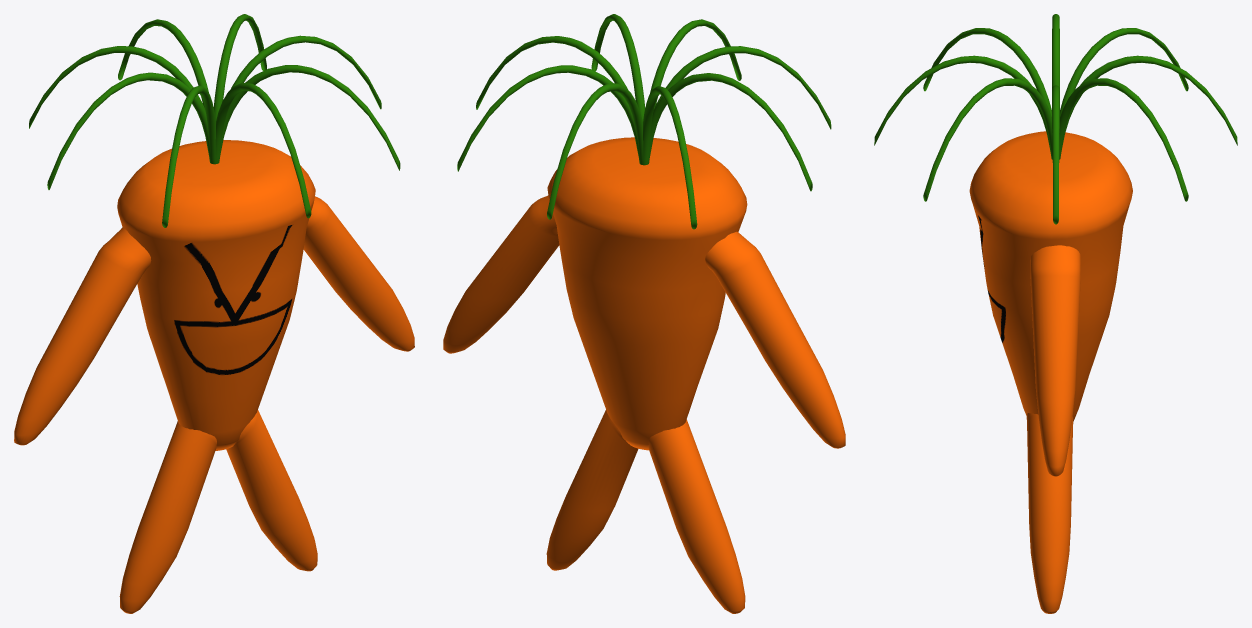
Rendered from CarrotMinion.fbx.
The picture shows the model from 3 angles, left to right: view 1: azimuth 30°, elevation 25°; view 2: azimuth 150°, elevation 25°; view 3: azimuth 270°, elevation 25°; orthographic projection. The views are drawn at different scales.
Visible parts, largest first — view 1: CarrotMinion14; view 2: CarrotMinion14; view 3: CarrotMinion14.
Part boxes in pixels (x1=…): CarrotMinion14: x1=14, y1=14, x2=414, y2=613; CarrotMinion14: x1=443, y1=14, x2=845, y2=613; CarrotMinion14: x1=874, y1=14, x2=1237, y2=613.
Size of the model in its own units: 51.72 by 66.05 by 42.31.
